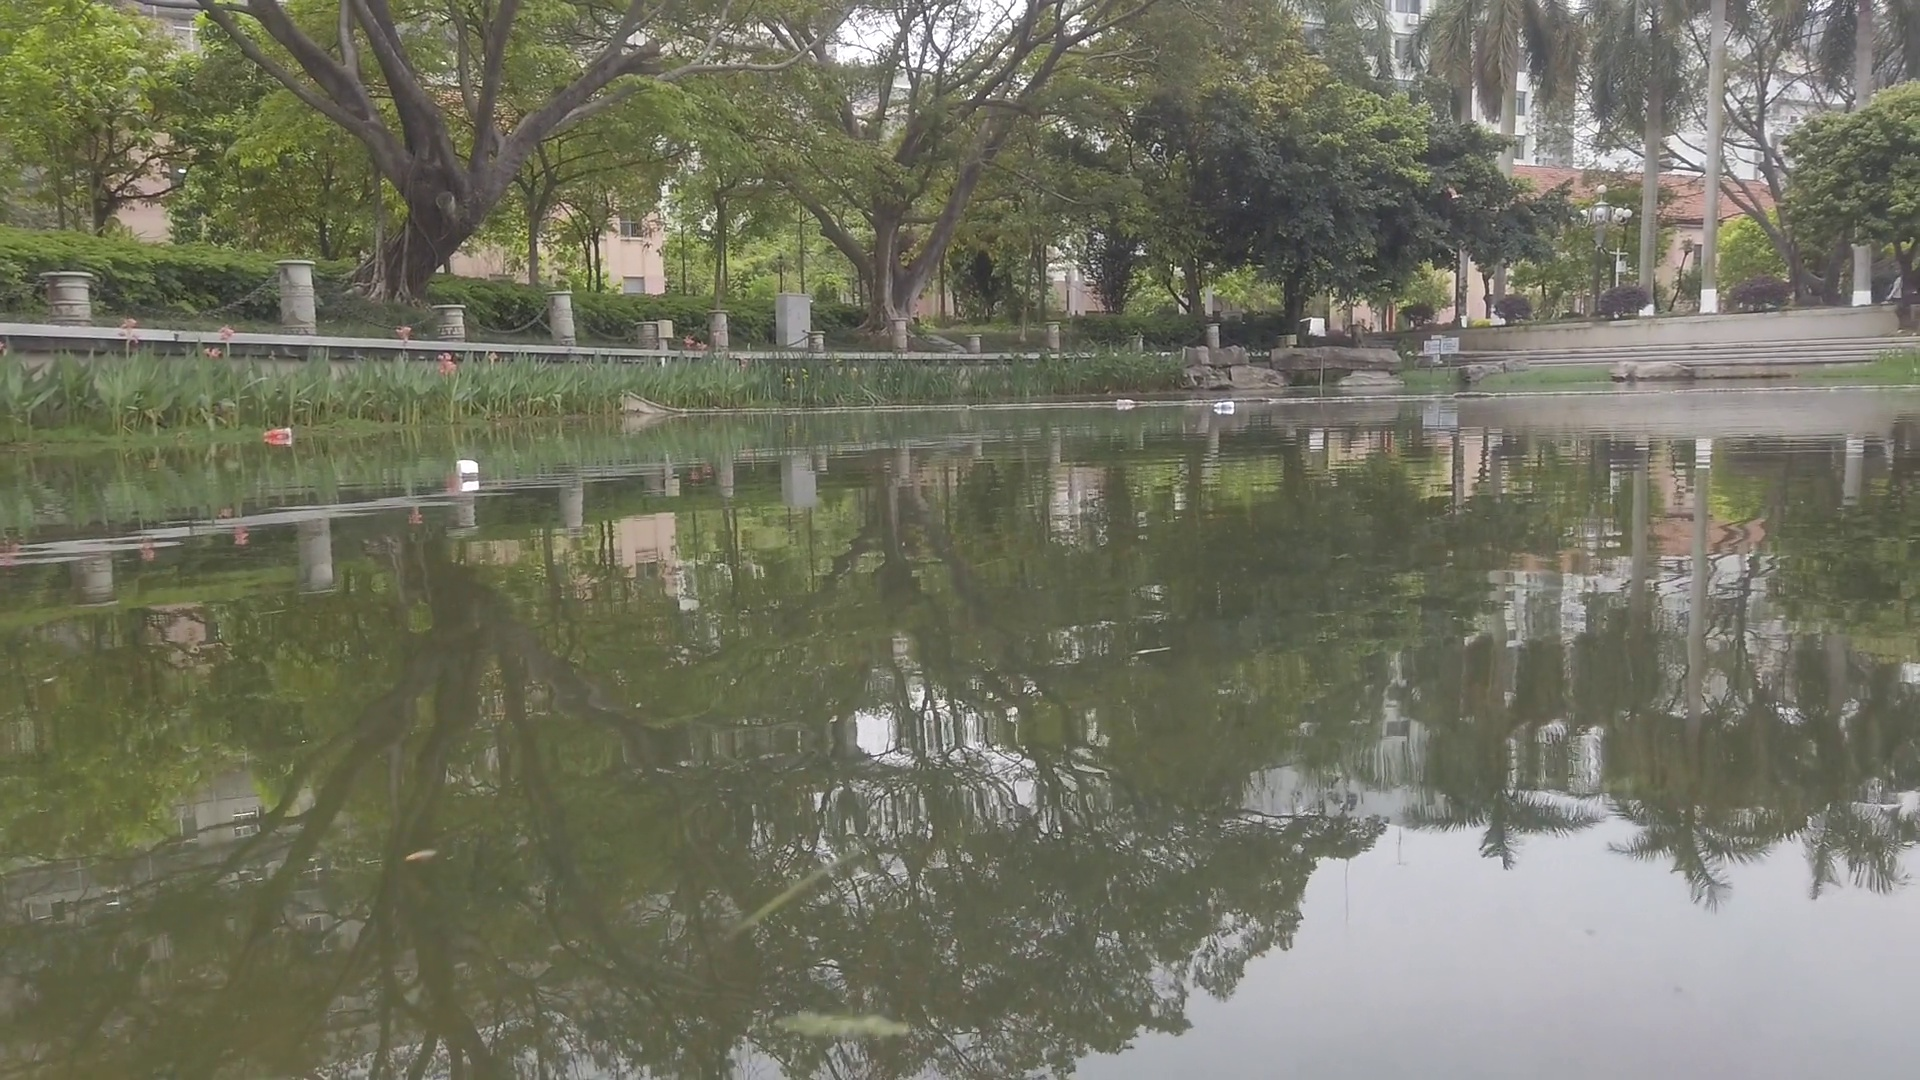bottle: (261, 429, 291, 443), (1117, 400, 1135, 407), (1215, 402, 1236, 409)
carton: (455, 459, 481, 481)
